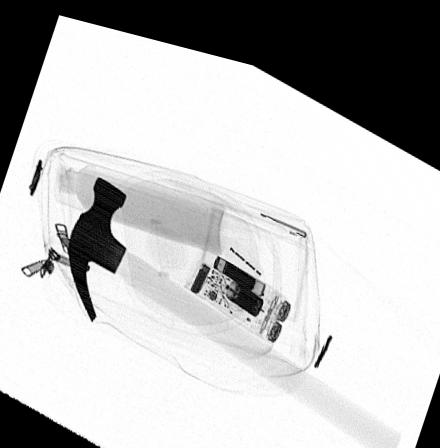Hammer: (66, 171, 402, 446)
